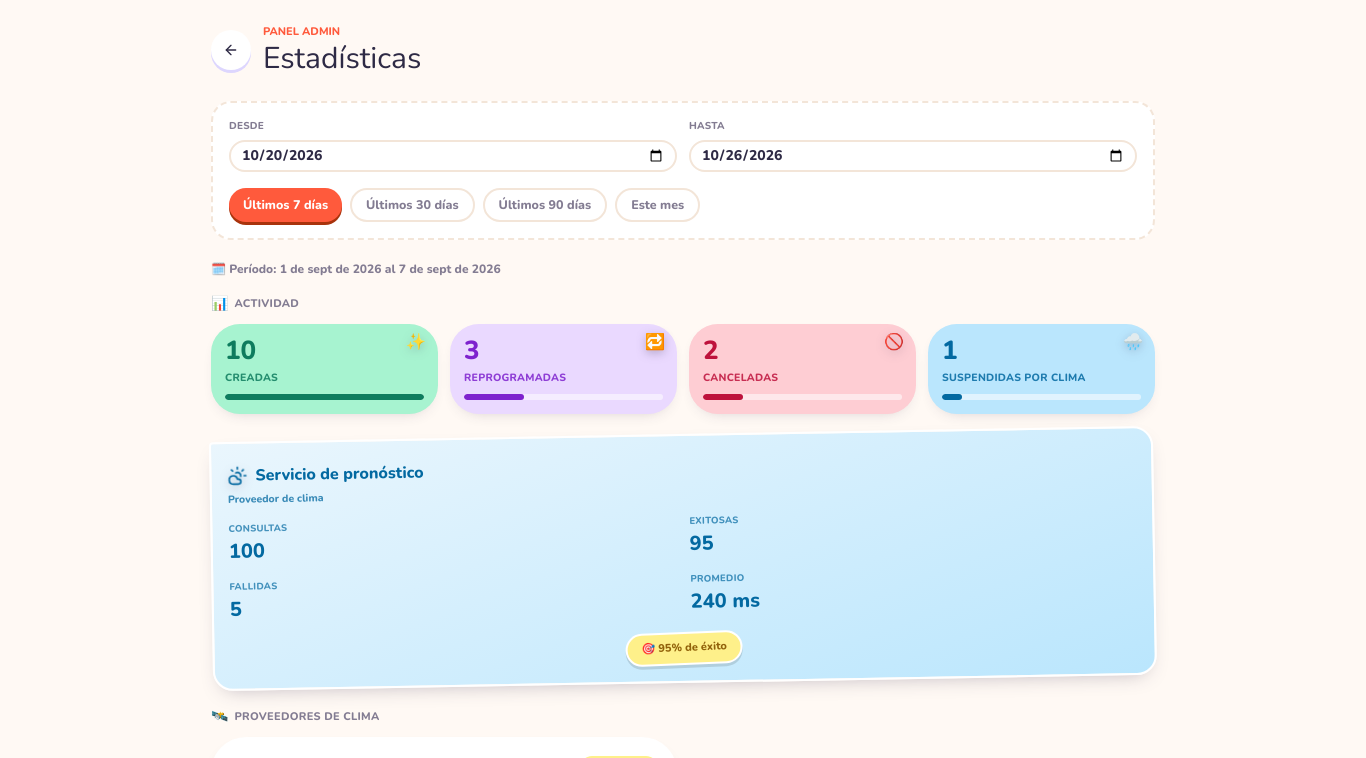
it: StatisticsPage range filtering › rejects a range whose from is later than to
Expected: the text "Creadas" is shown, [225, 370, 278, 385]
Step 1. Type "2026-09-10" into the date field labelled "Desde" → [453, 156], box [229, 140, 677, 172]
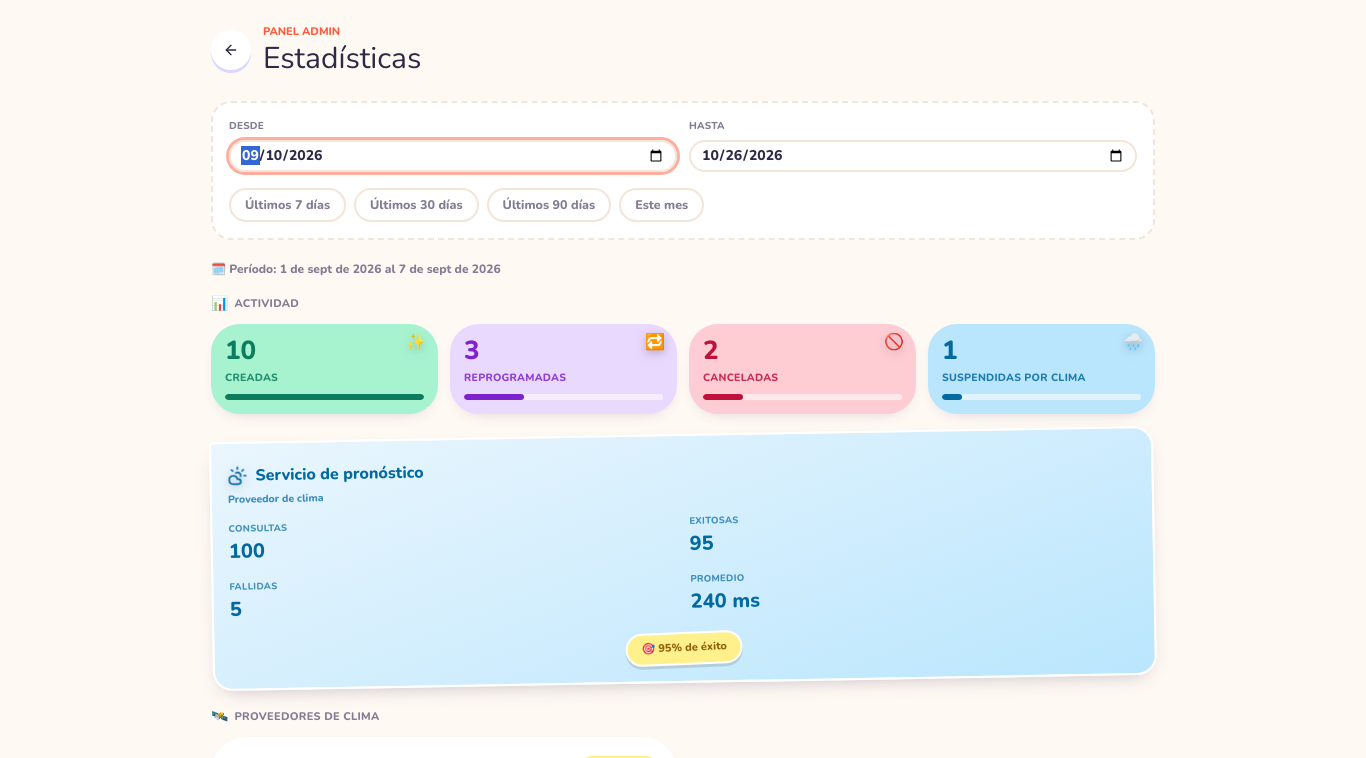
Step 2. Type "2026-09-05" into the date field labelled "Hasta" → [913, 156], box [689, 140, 1137, 172]
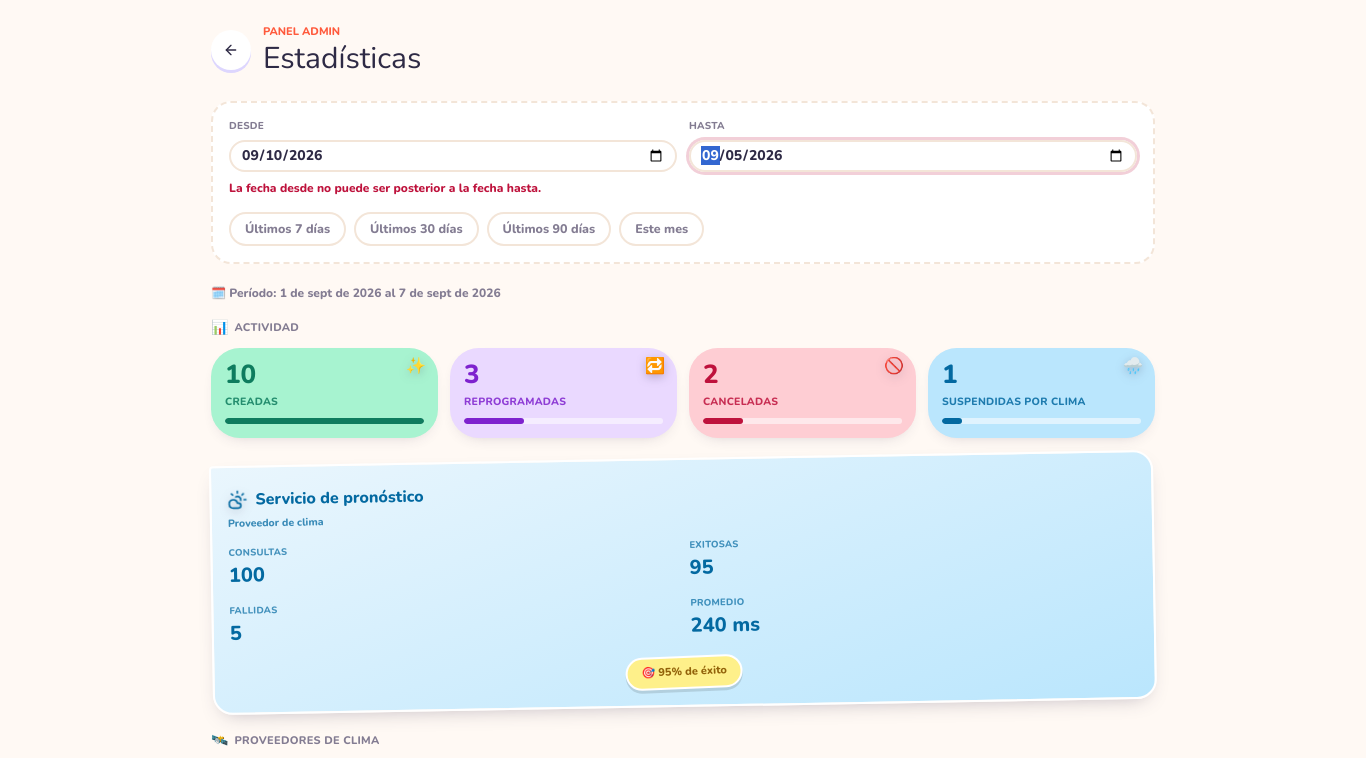
Now the text "La fecha desde no puede ser posterior a la fecha hasta." is shown, box [229, 180, 541, 196]
